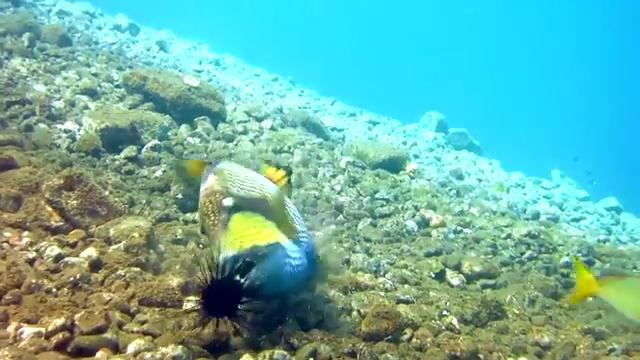urchin: (177, 239, 267, 345)
